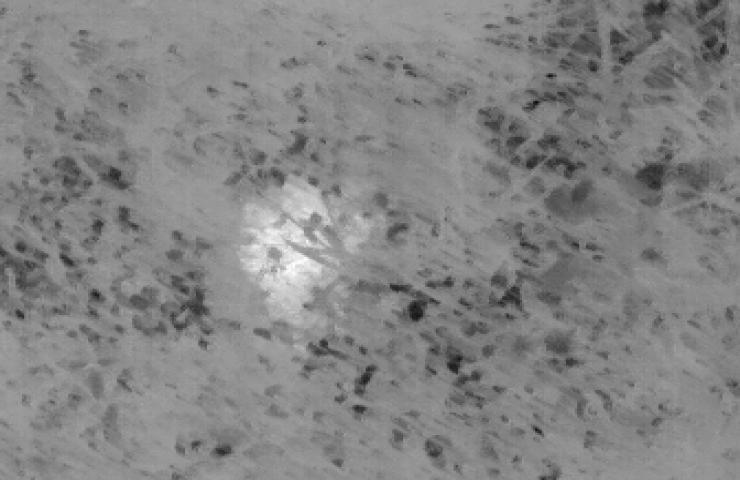landmines: (226, 176, 374, 317)
